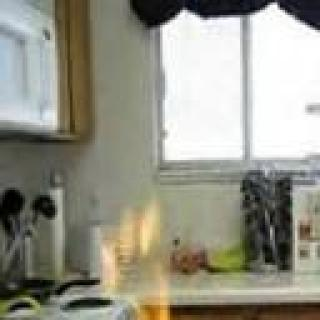fire: (103, 215, 263, 320)
